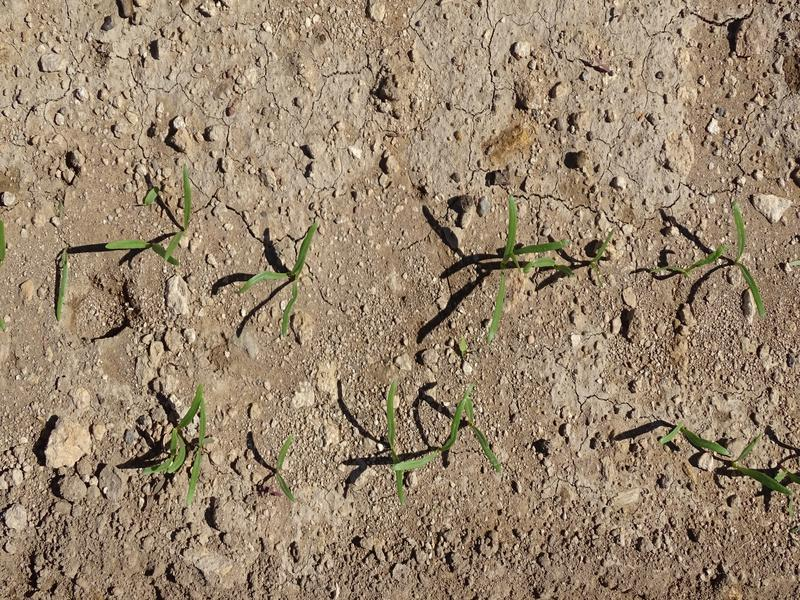Espinaca: (652, 413, 798, 499), (486, 193, 552, 339), (242, 222, 322, 334), (414, 391, 500, 475), (164, 387, 212, 501), (724, 206, 769, 324), (381, 390, 411, 501), (164, 163, 193, 271), (99, 233, 157, 255)
